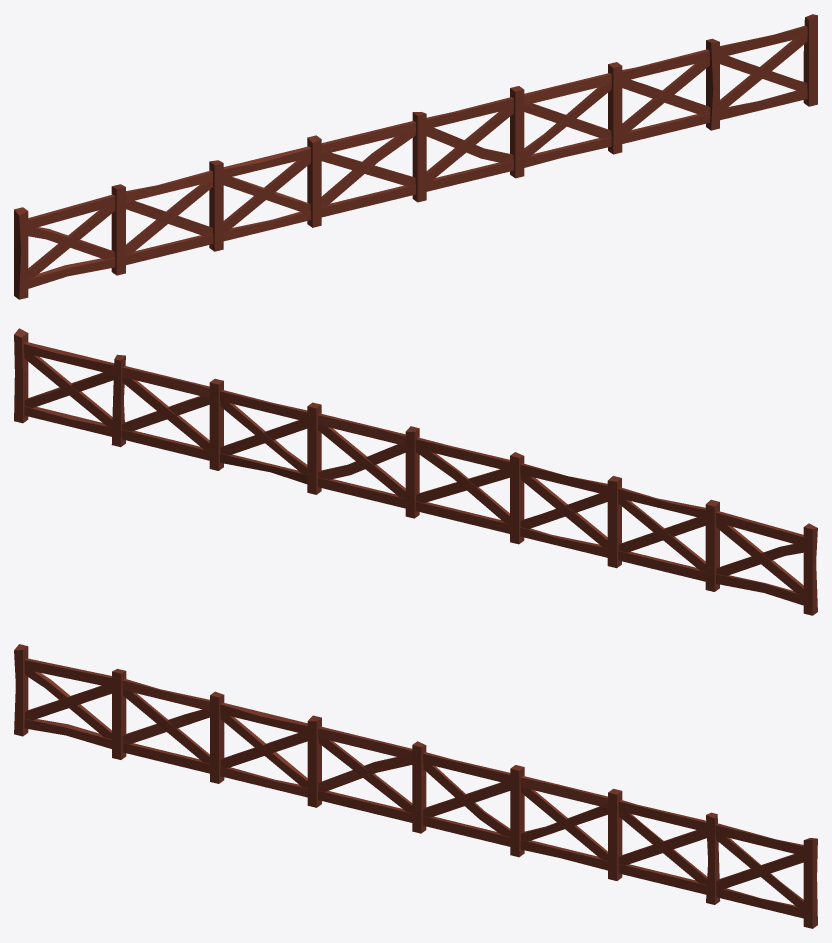
The model's file is Fence_3.fbx.
3 views of the same model, one above another, from view 1: azimuth 30°, elevation 25°; view 2: azimuth 150°, elevation 25°; view 3: azimuth 330°, elevation 25° (orthographic).
Parts seen in each view (by area): view 1: Fence_3; view 2: Fence_3; view 3: Fence_3.
Boxes of the visible parts, x1,y1,x2,y2 form: Fence_3: (14, 14, 817, 299); Fence_3: (14, 328, 817, 615); Fence_3: (14, 644, 817, 928).
Size of the model in its own units: 889 by 10.63 by 94.97.
